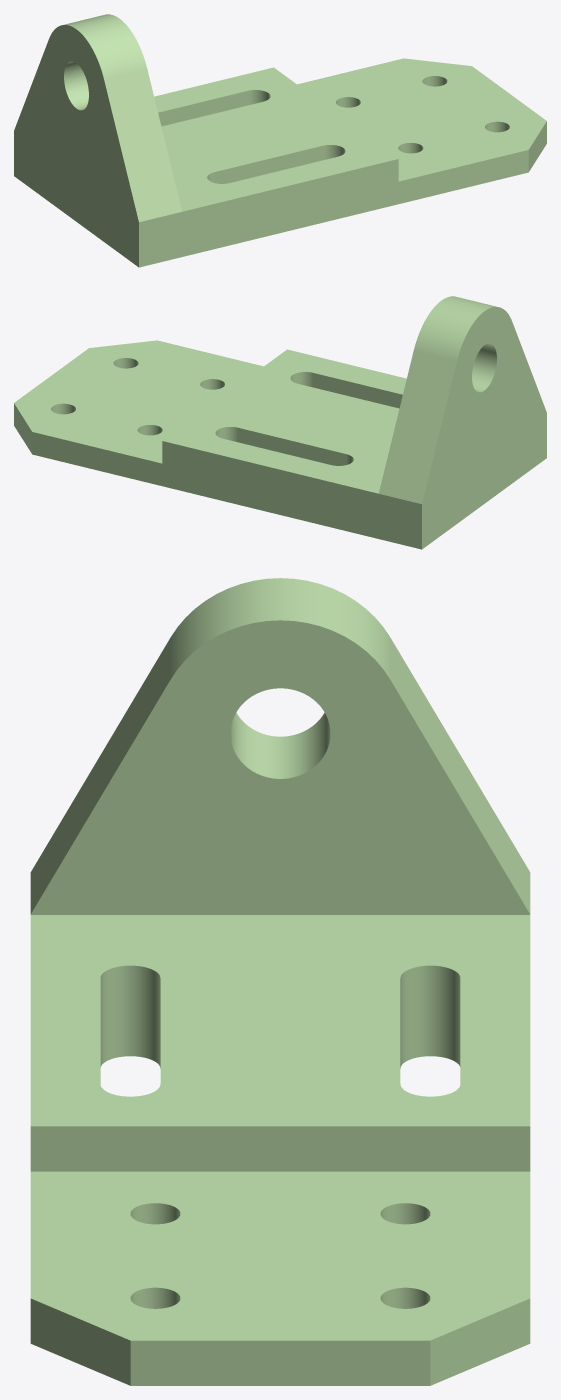
Rendered from Equerre.glb.
The picture shows the model from 3 angles, top to bottom: view 1: azimuth 30°, elevation 25°; view 2: azimuth 150°, elevation 25°; view 3: azimuth 270°, elevation 25°; orthographic projection. The views are drawn at different scales.
Visible parts, largest first — view 1: Equerre; view 2: Equerre; view 3: Equerre.
Part boxes in pixels (x1,y1,x2,y2): Equerre: [14, 14, 546, 267]; Equerre: [14, 296, 546, 549]; Equerre: [30, 578, 530, 1385].
Bounding box in the file's own units: 0.2 × 0.085 × 0.1.
